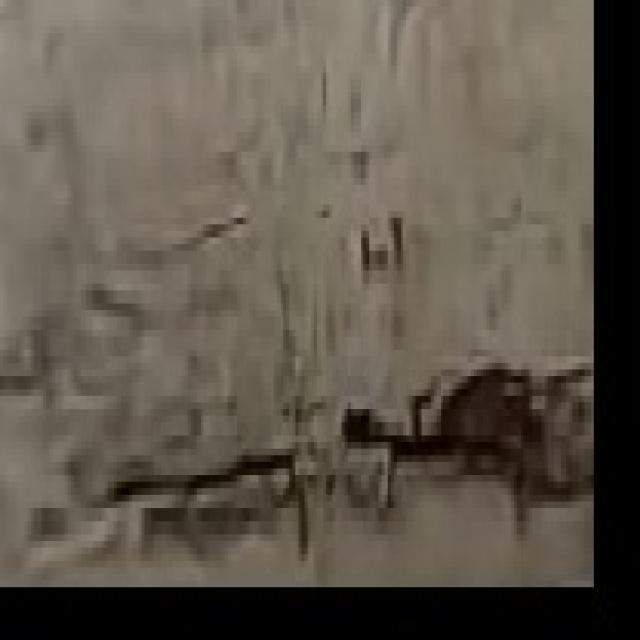crack: (118, 410, 367, 562)
